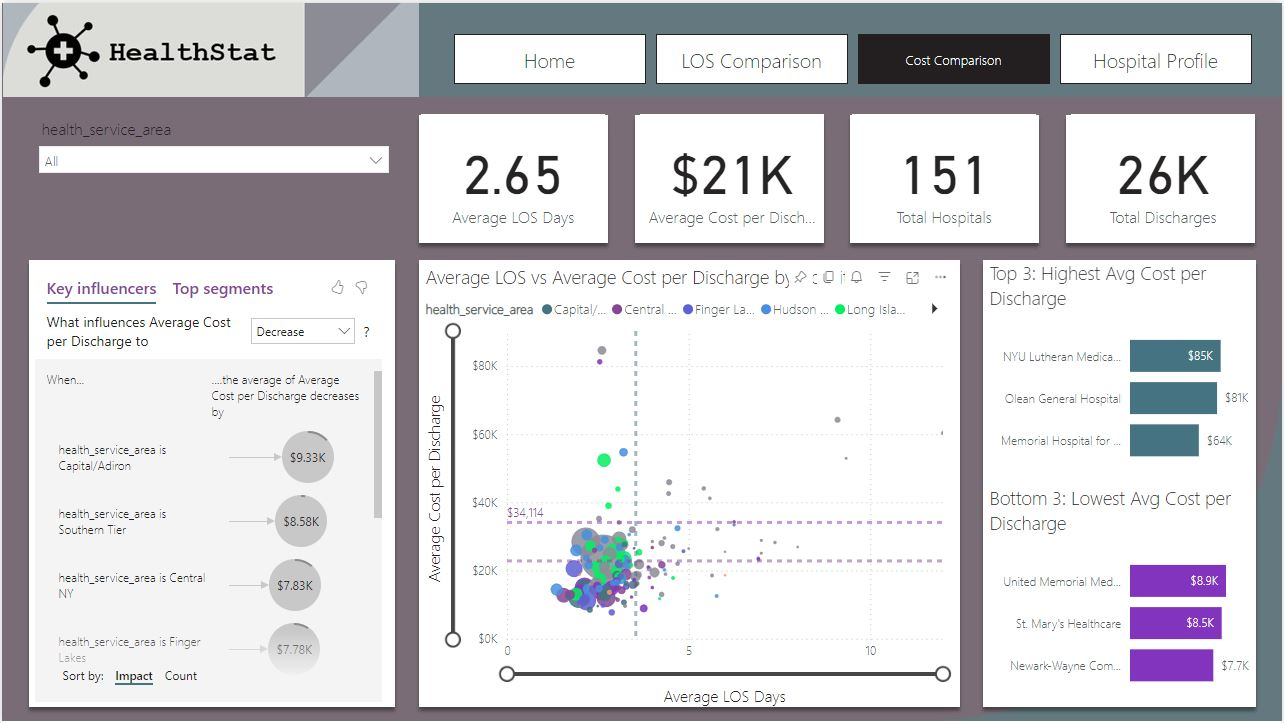

Layout of this report page (visuals, bound fields, positions):
{"tool":"powerbi","page":{"name":"Cost Comparison","canvas":[1280,720],"ordinal":2},"visuals":[{"type":"scatterChart","title":"Average LOS vs Average Cost per Discharge by Hospital","fields":{"X":["_Measures.Average LOS Days"],"Y":["_Measures.Average Cost per Discharge"],"Category":["hospital_discharges.facility_name"],"Size":["_Measures.Total Discharges"],"Series":["hospital_discharges.health_service_area"]},"box":[418.5,260.7,533.8,441.9],"z":0},{"type":"slicer","fields":{"Values":["hospital_discharges.health_service_area"]},"box":[27.4,109.8,369.1,130.4],"z":1000},{"type":"keyDriversVisual","fields":{"ExplainBy":["hospital_discharges.apr_risk_of_mortality","hospital_discharges.apr_severity_of_illness_description","hospital_discharges.ccs_diagnosis_description","hospital_discharges.patient_disposition","hospital_discharges.gender","hospital_discharges.Age Bins","surgical_program_size_summary.Surgical Program Size","hospital_discharges.health_service_area"],"Target":["_Measures.Average Cost per Discharge"]},"box":[27.7,261.4,357.7,442.4],"z":2000},{"type":"clusteredBarChart","title":"Top 3: Highest Avg Cost per Discharge","fields":{"Category":["hospital_discharges.facility_name"],"Y":["_Measures.Average Cost per Discharge"]},"box":[982.7,257,270.1,220.5],"z":3000},{"type":"clusteredBarChart","title":"Bottom 3: Lowest Avg Cost per Discharge","fields":{"Category":["hospital_discharges.facility_name"],"Y":["_Measures.Average Cost per Discharge"]},"box":[982.7,481.9,270.1,220.5],"z":4000},{"type":"card","fields":{"Values":["_Measures.Average LOS Days"]},"box":[419.1,111,184,129],"z":5000},{"type":"card","fields":{"Values":["_Measures.Average Cost per Discharge"]},"box":[638.1,111,184,129],"z":6000},{"type":"card","fields":{"Values":["_Measures.Total Hospitals"]},"box":[849.8,111,184,129],"z":7000},{"type":"card","fields":{"Values":["_Measures.Total Discharges"]},"box":[1068.9,111,184,129],"z":8000},{"type":"pageNavigator","box":[452.1,31.4,800,49.9],"z":9000}]}

Visuals, with their boxes in screenshot pixels (x1, y1, x2, y2), scaled from the page's 1280x720 canvas onto the 1284x723 screenshot:
"Average LOS vs Average Cost per Discharge by Hospital" scatterChart: [420,262,955,706]
slicer - hospital_discharges.health_service_area: [27,110,398,241]
keyDriversVisual - hospital_discharges.apr_risk_of_mortality x hospital_discharges.apr_severity_of_illness_description: [28,262,387,707]
"Top 3: Highest Avg Cost per Discharge" clusteredBarChart: [986,258,1257,479]
"Bottom 3: Lowest Avg Cost per Discharge" clusteredBarChart: [986,484,1257,705]
card - _Measures.Average LOS Days: [420,111,605,241]
card - _Measures.Average Cost per Discharge: [640,111,825,241]
card - _Measures.Total Hospitals: [852,111,1037,241]
card - _Measures.Total Discharges: [1072,111,1257,241]
pageNavigator: [454,32,1256,82]
